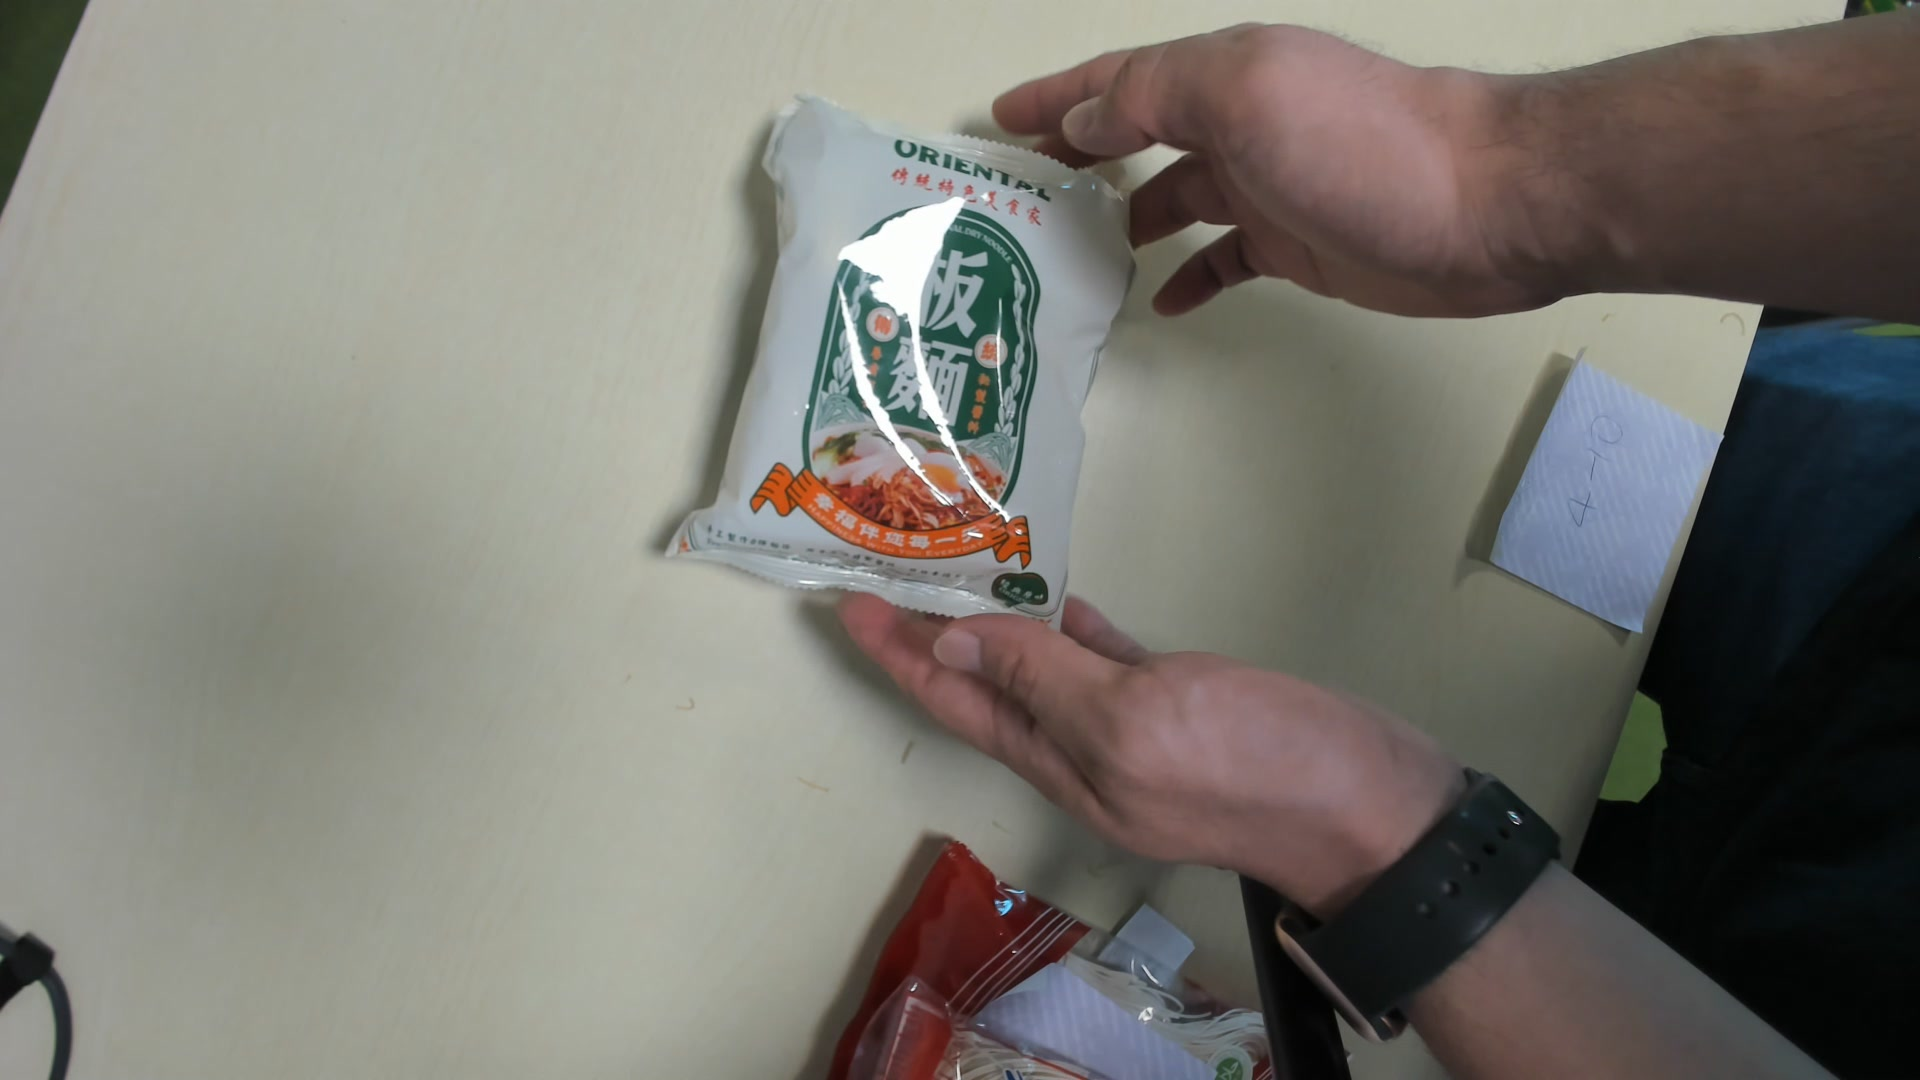BeeHoonVermicelli_100-199g_NonHalal_NonHealthy: (673, 105, 1147, 632)
